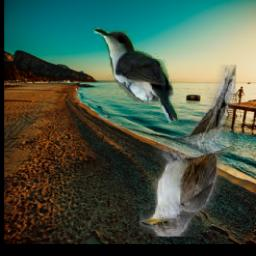Cuckoo: (140, 65, 237, 237), (94, 27, 180, 124)
